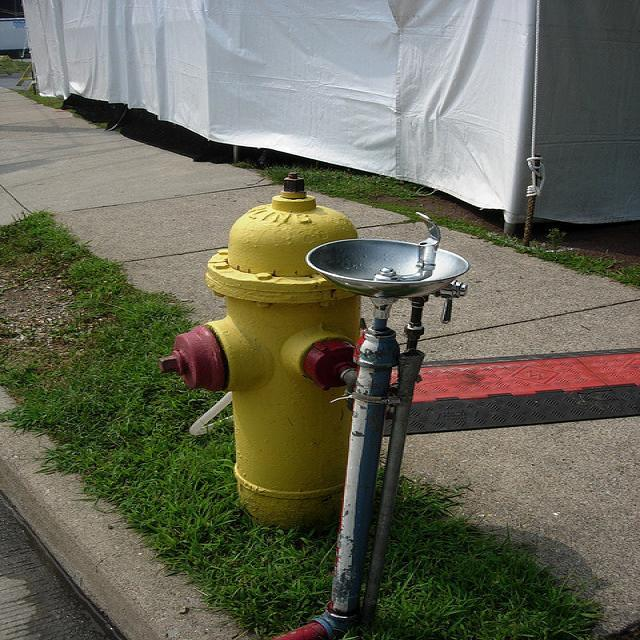fire_hydrant: (157, 171, 363, 534)
